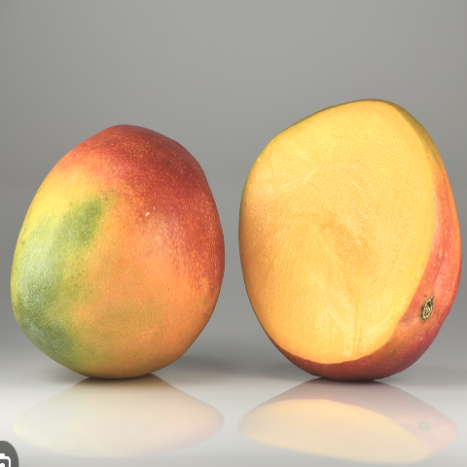mango: (235, 85, 466, 411), (5, 120, 230, 406)
